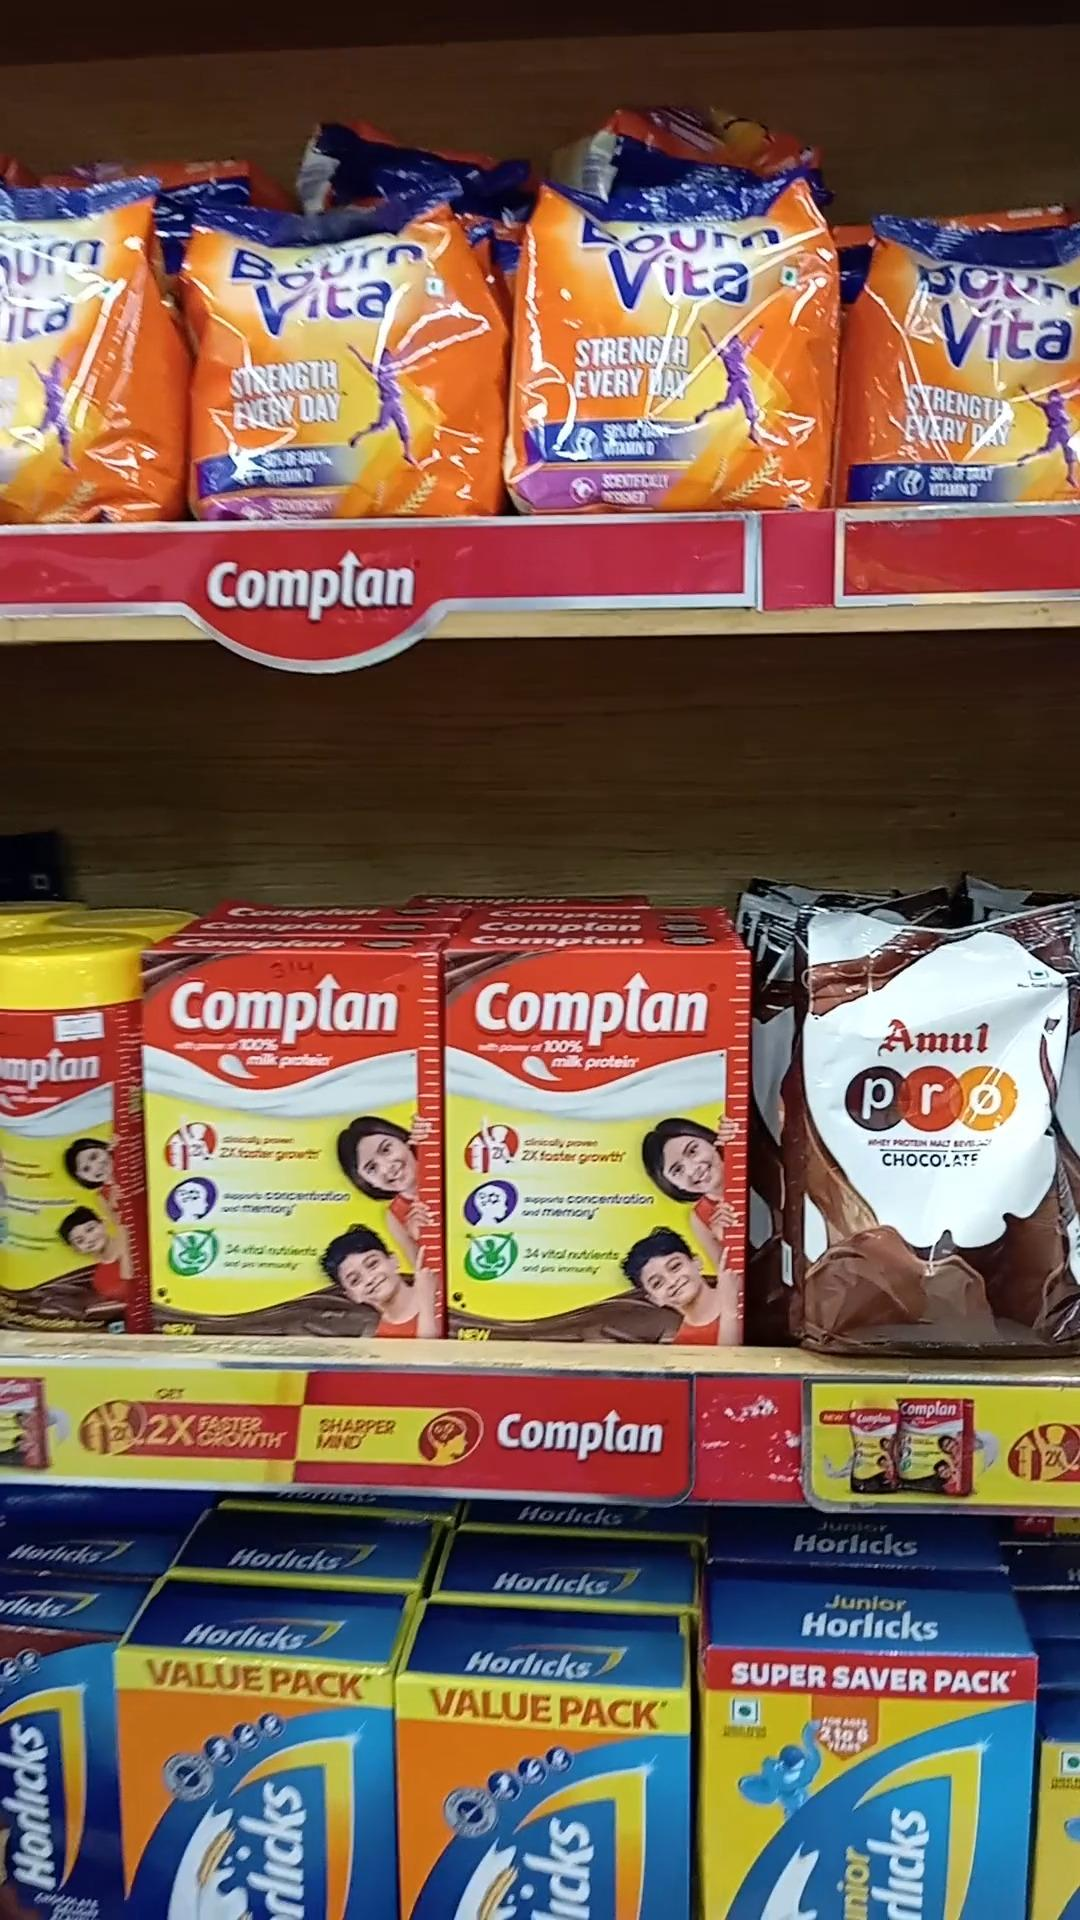BOURN_VITA_500_G_POUCH: (513, 162, 827, 501), (193, 175, 489, 522), (848, 204, 1080, 498)
COMPLAN_CHOCOLATE_500_GMS_JAR: (4, 940, 136, 1340)
COMPLAN_CHOCOLATE_500_GMS_PACK: (452, 952, 741, 1345), (149, 951, 436, 1333)
